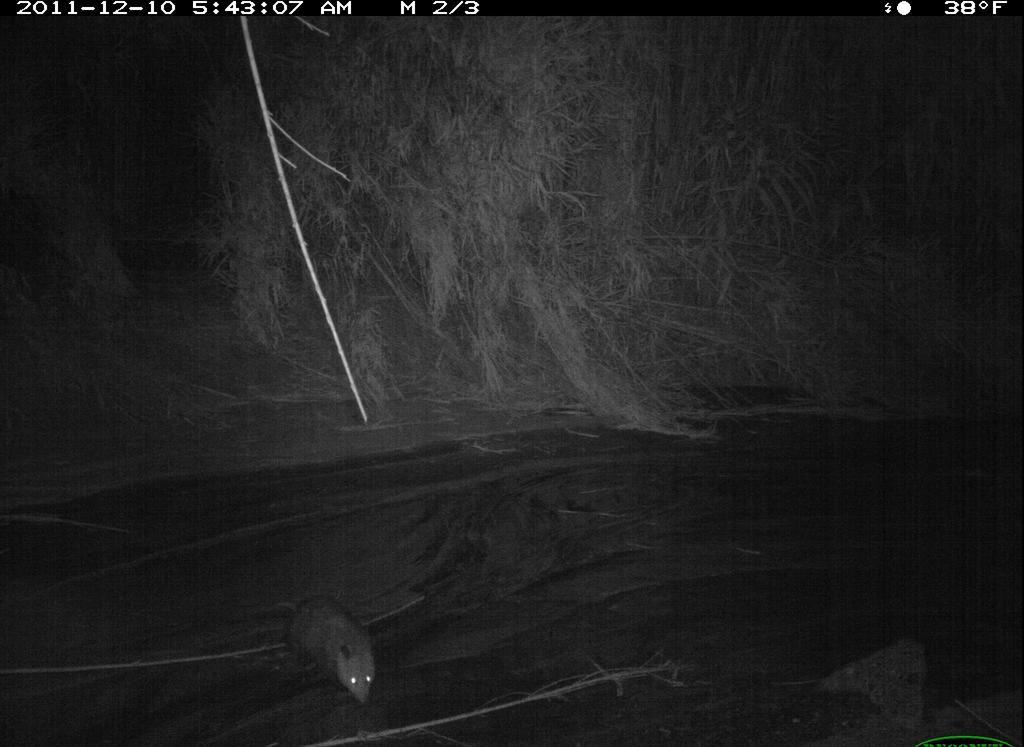opossum: (265, 589, 388, 710)
